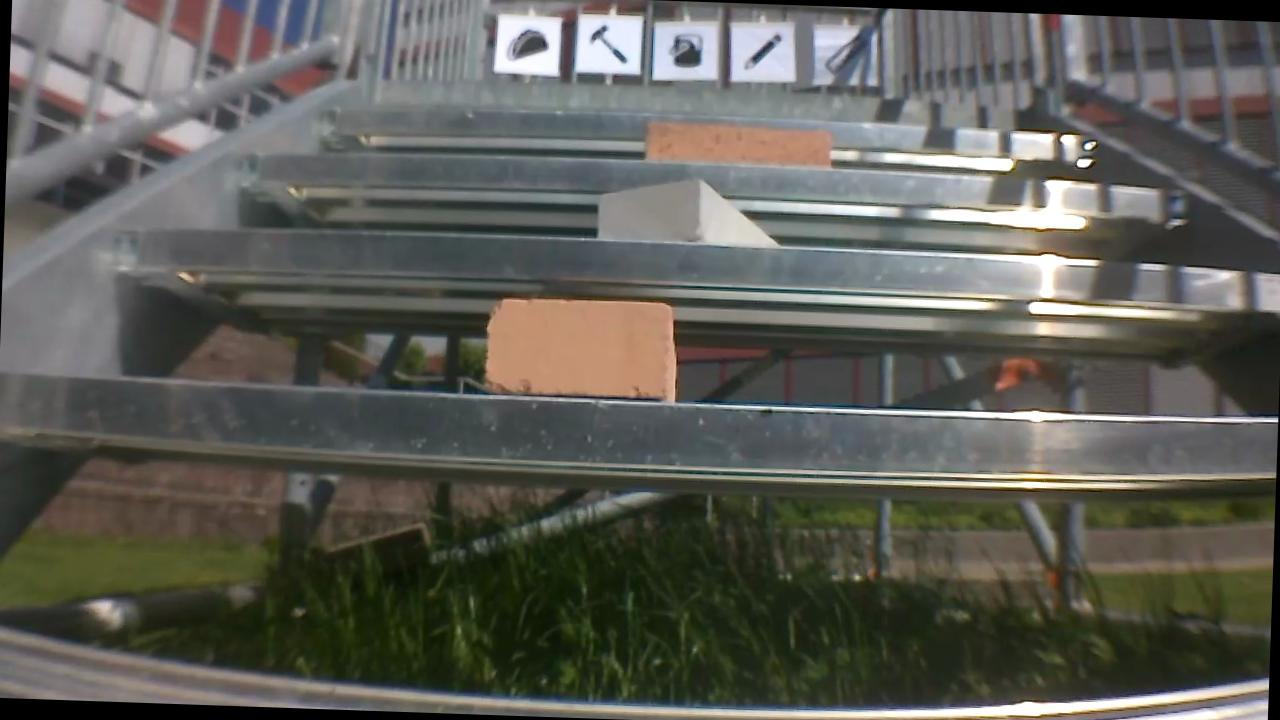brick: (480, 293, 679, 404), (587, 172, 794, 251), (641, 120, 831, 164)
edge: (1, 378, 1278, 478), (108, 224, 1280, 312), (236, 152, 1191, 218), (304, 104, 1102, 165), (374, 73, 1070, 118)
